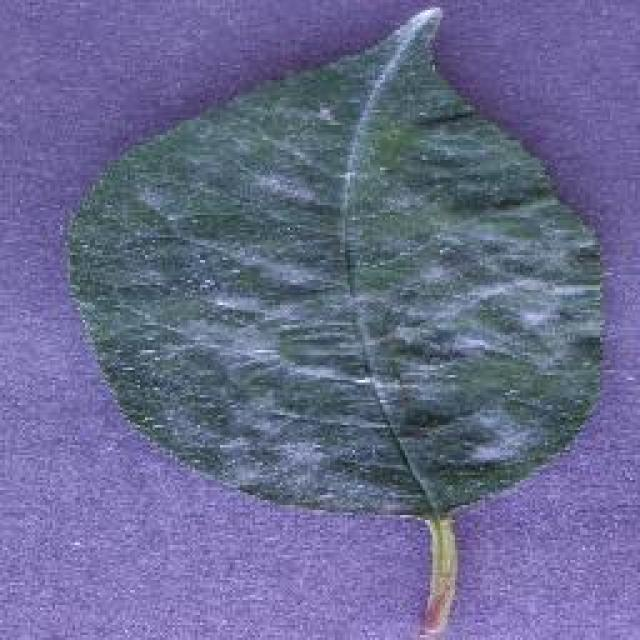Cherry___Powdery_mildew: (50, 0, 620, 635)
